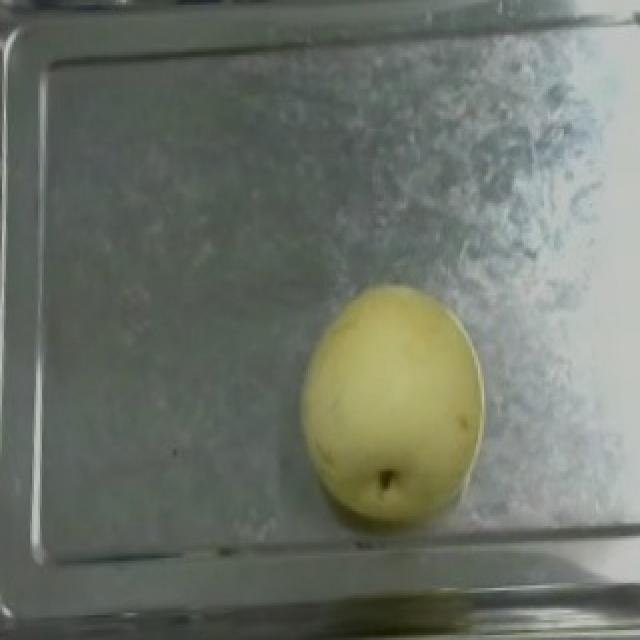Fruit: (288, 270, 500, 531)
